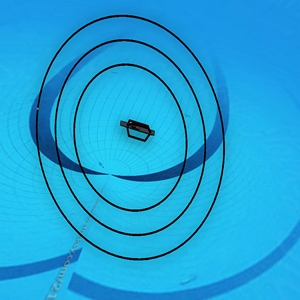circle: (25, 10, 232, 263)
submarine: (119, 116, 155, 142)
